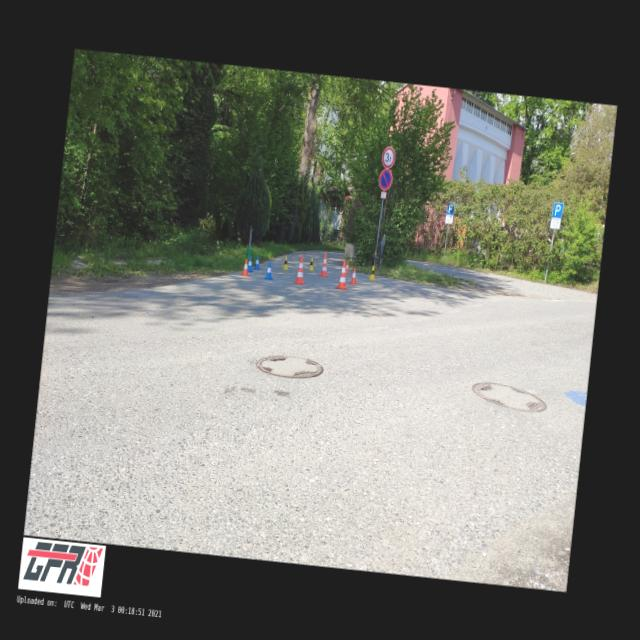blue_cone: (263, 262, 275, 280), (252, 255, 260, 270), (247, 256, 254, 272)
large_orange_cone: (336, 260, 350, 290), (293, 254, 307, 284), (318, 252, 331, 276)
orange_cone: (240, 258, 251, 276), (349, 268, 358, 284), (344, 261, 348, 274)
yellow_cone: (368, 265, 376, 280), (282, 256, 290, 270), (308, 258, 316, 272)
